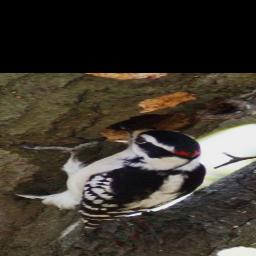Woodpecker: (14, 125, 205, 236)
